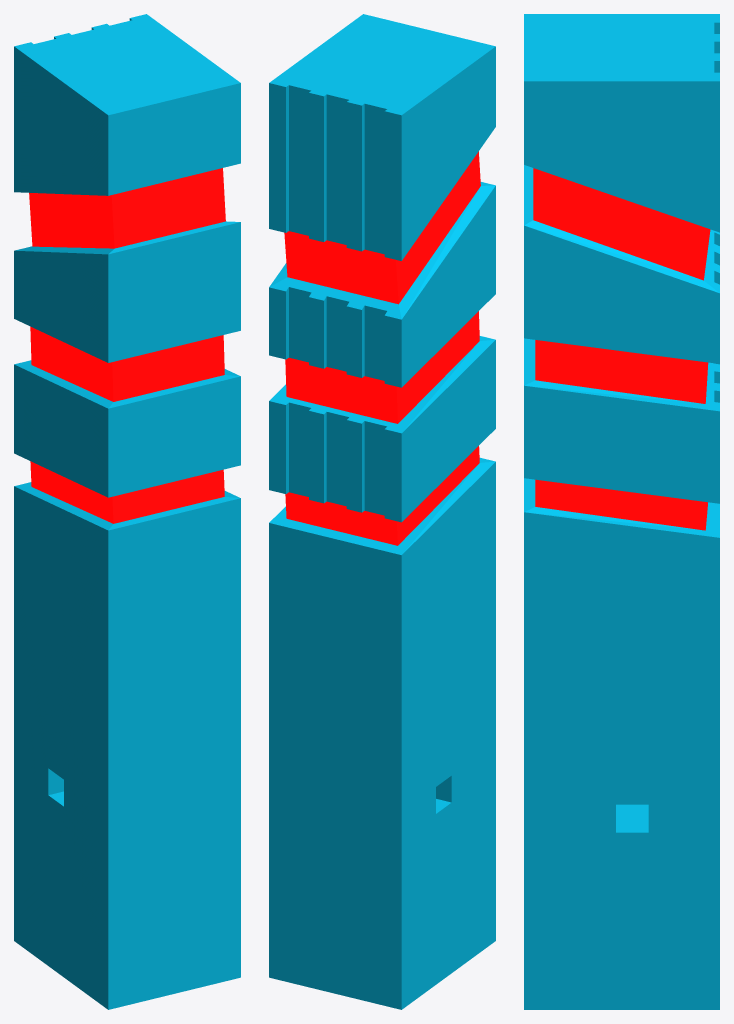
File: Start_Wall.fbx
3 renders of one model, left to right at view 1: azimuth 30°, elevation 25°; view 2: azimuth 150°, elevation 25°; view 3: azimuth 270°, elevation 25°, orthographic. The views are drawn at different scales.
Parts seen in each view (by area): view 1: Box022; view 2: Box022; view 3: Box022.
Boxes of the visible parts, <box> form: Box022: <box>14,14,240,1009</box>; Box022: <box>269,14,495,1009</box>; Box022: <box>524,14,719,1009</box>.
Bounding box in the file's own units: 2756 × 17768 × 3393.
